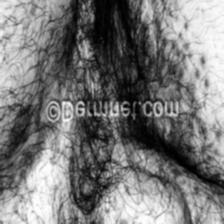Toxin: (67, 74, 84, 93), (115, 216, 132, 224), (198, 56, 209, 68), (203, 76, 211, 89), (198, 126, 206, 136)
